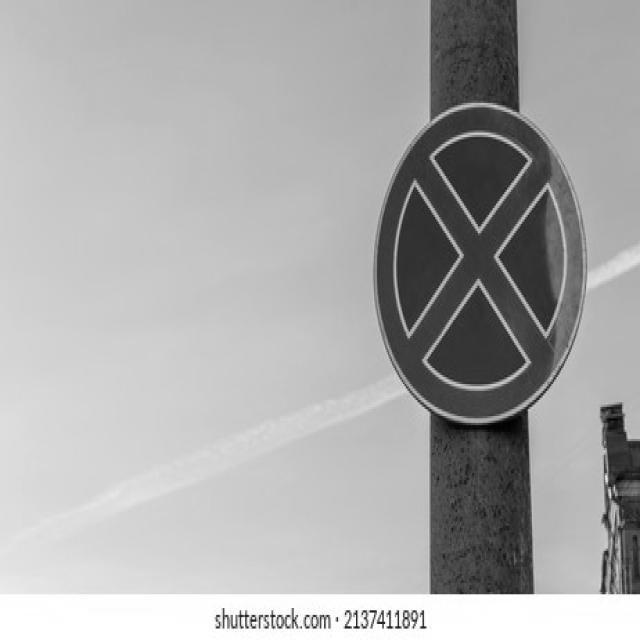no stopping or standing: (371, 101, 591, 428)
